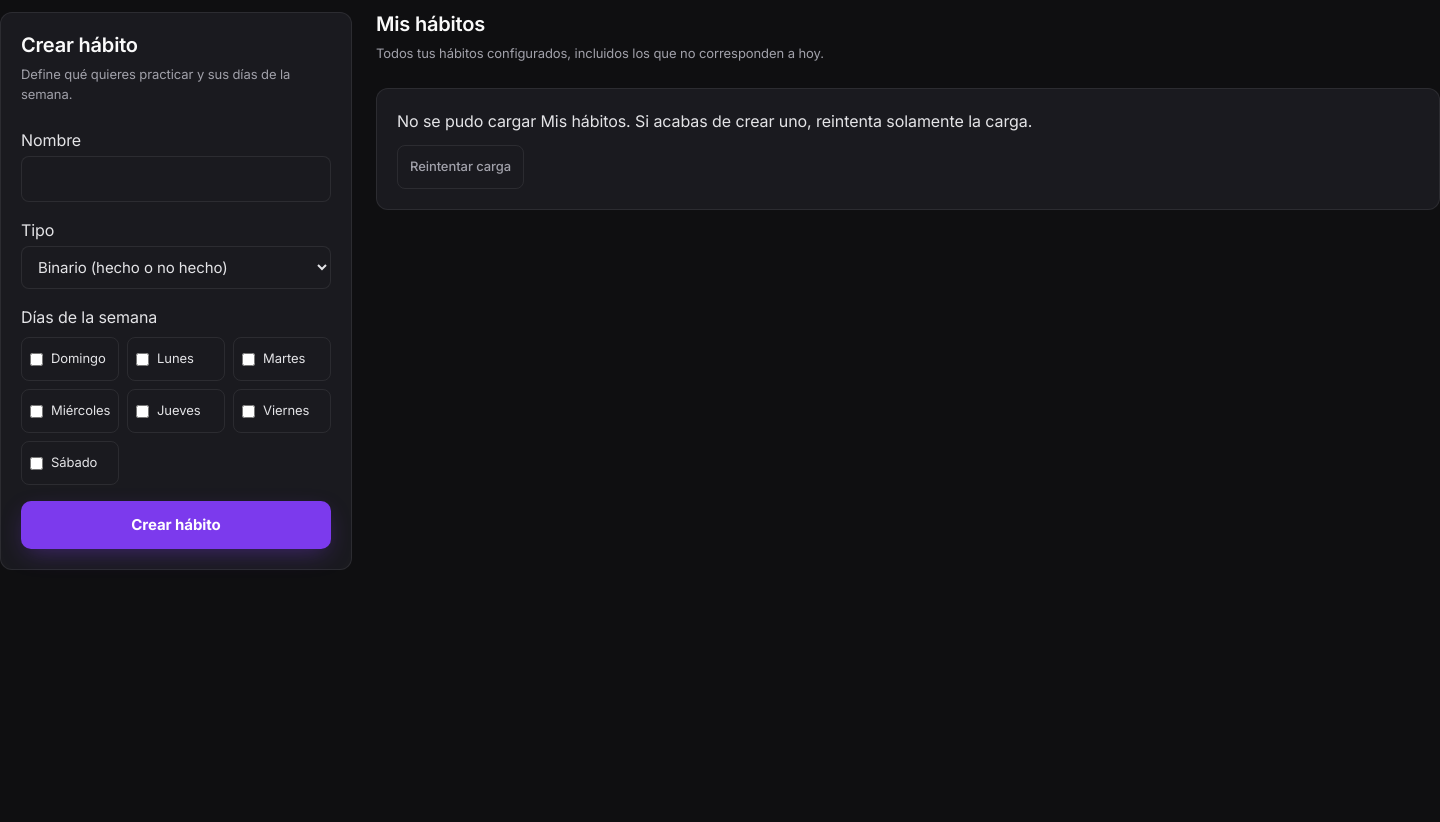
Test: persistent habit catalog › recovers catalog errors with GET-only retry: network
Click the button "Reintentar carga" at {"x": 460, "y": 166}, box [397,144,524,188]
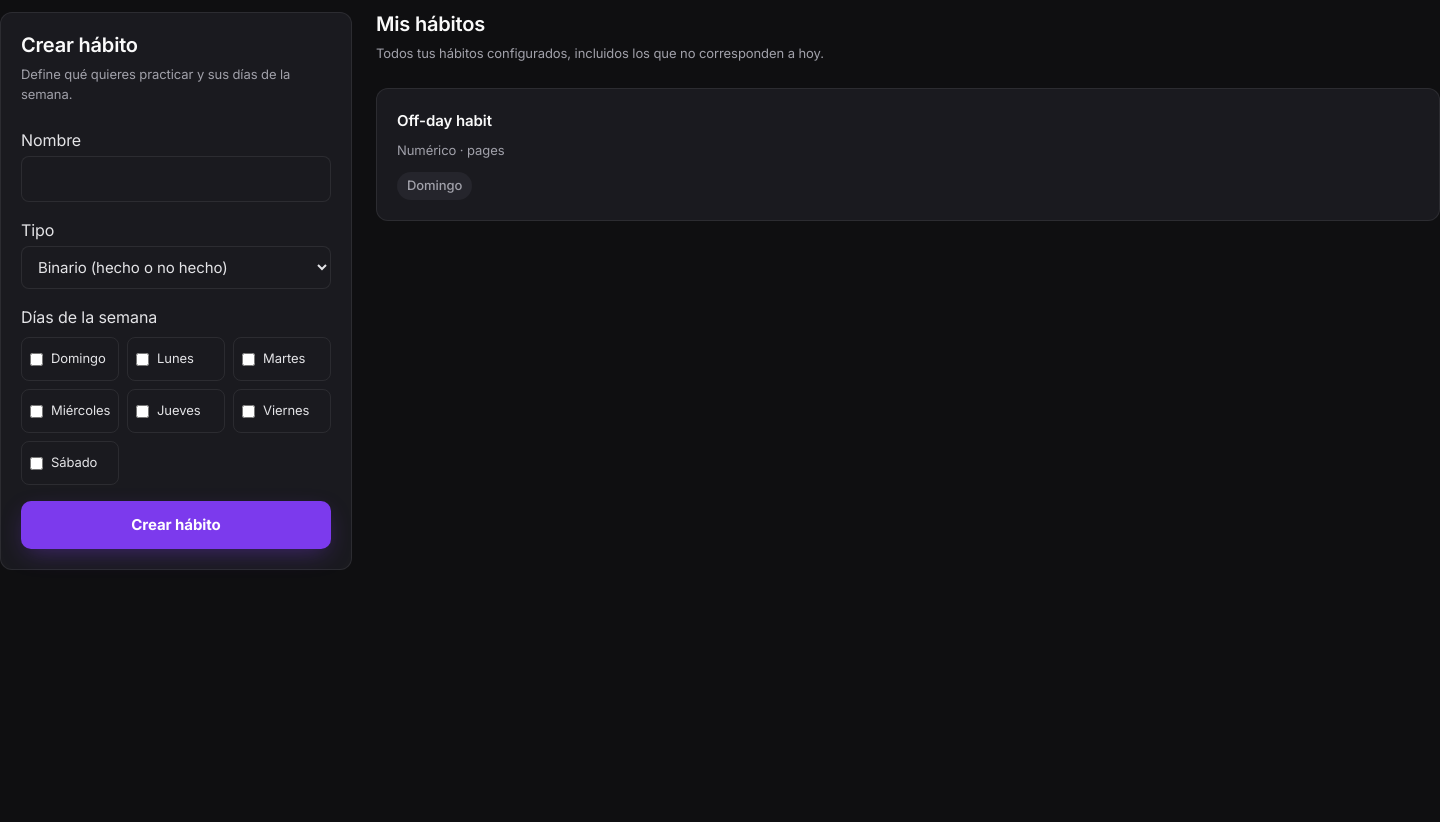
Expected: the heading "Off-day habit" is shown, [397,110,492,130]
